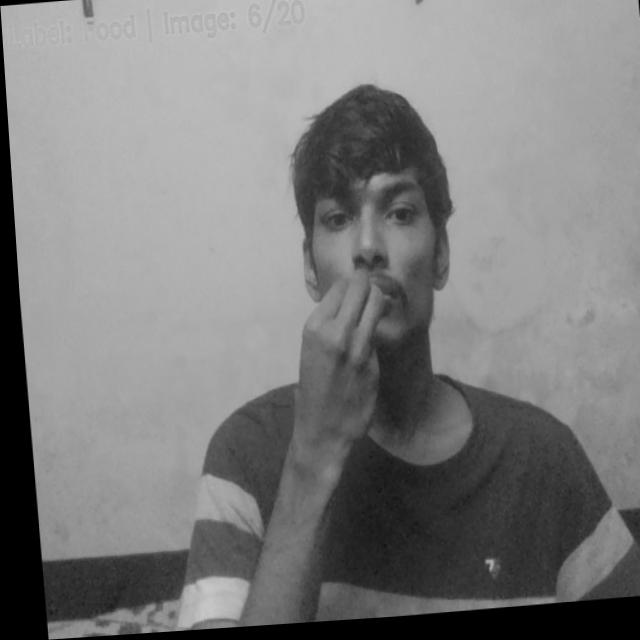Food: (276, 274, 397, 474)
